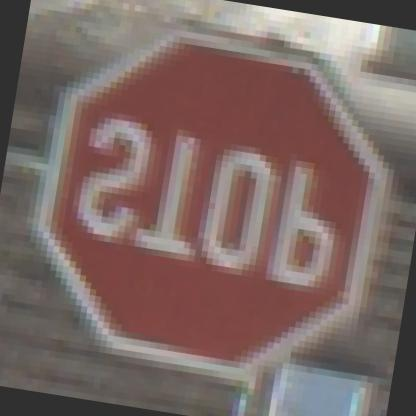stop: (16, 8, 405, 396)
